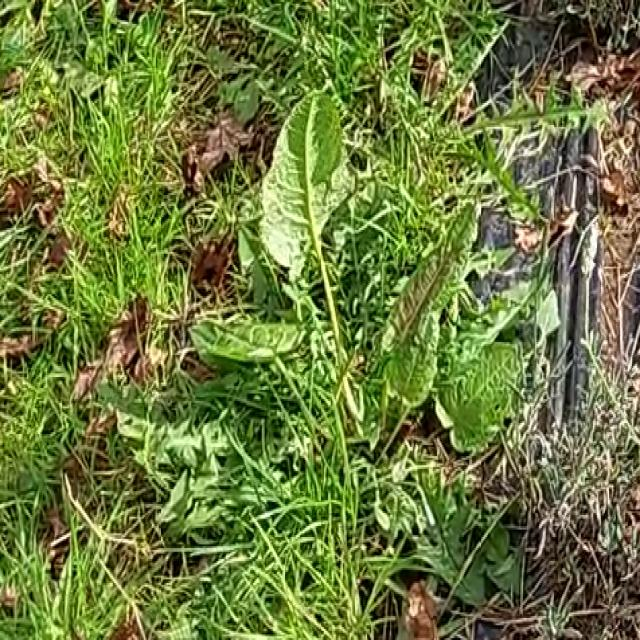organic waste: (163, 79, 570, 517)
